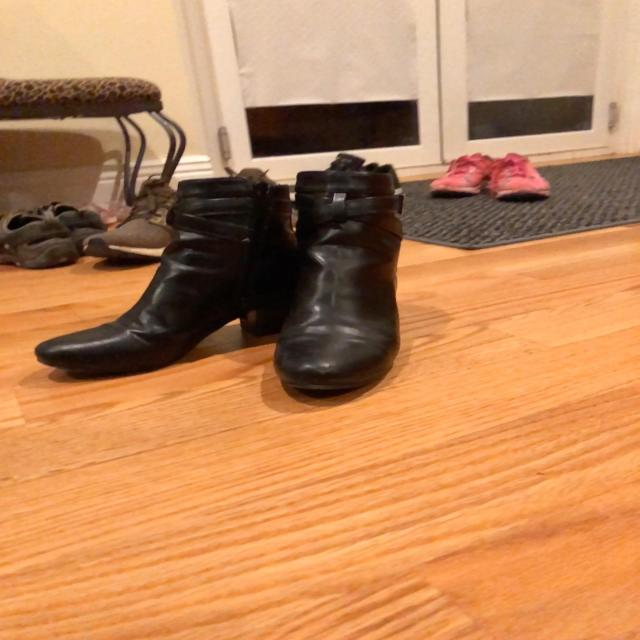shoe: (35, 177, 293, 380), (273, 158, 404, 403)
